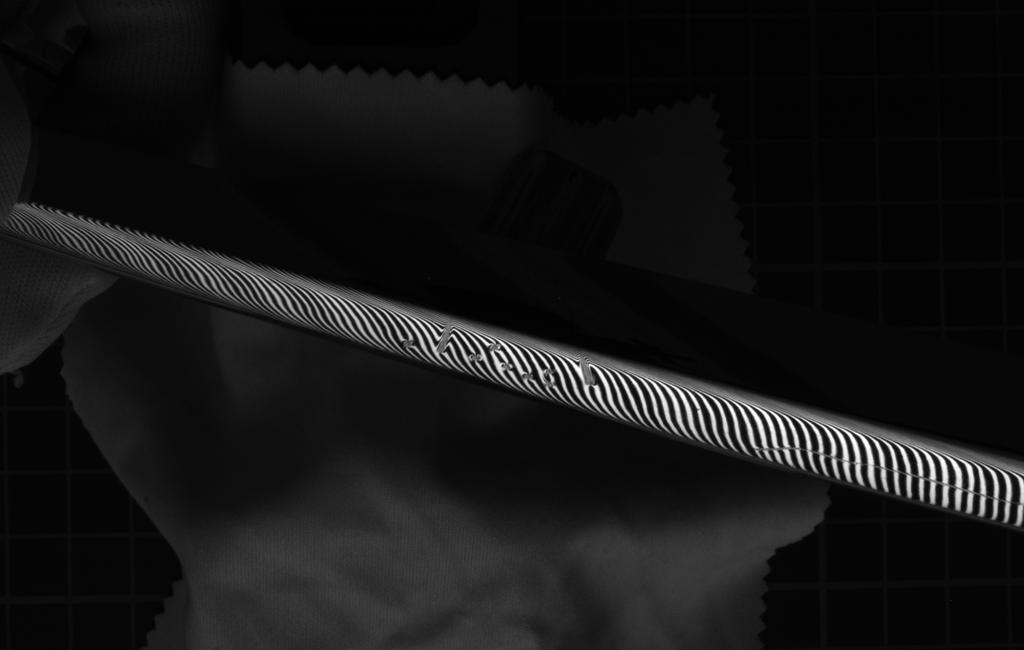Pierced: (494, 358, 520, 376), (395, 335, 423, 351), (485, 339, 511, 356), (461, 350, 488, 366), (518, 367, 540, 385)
Scratch: (732, 429, 1024, 530), (430, 318, 465, 362), (577, 352, 606, 399), (542, 362, 558, 396)
